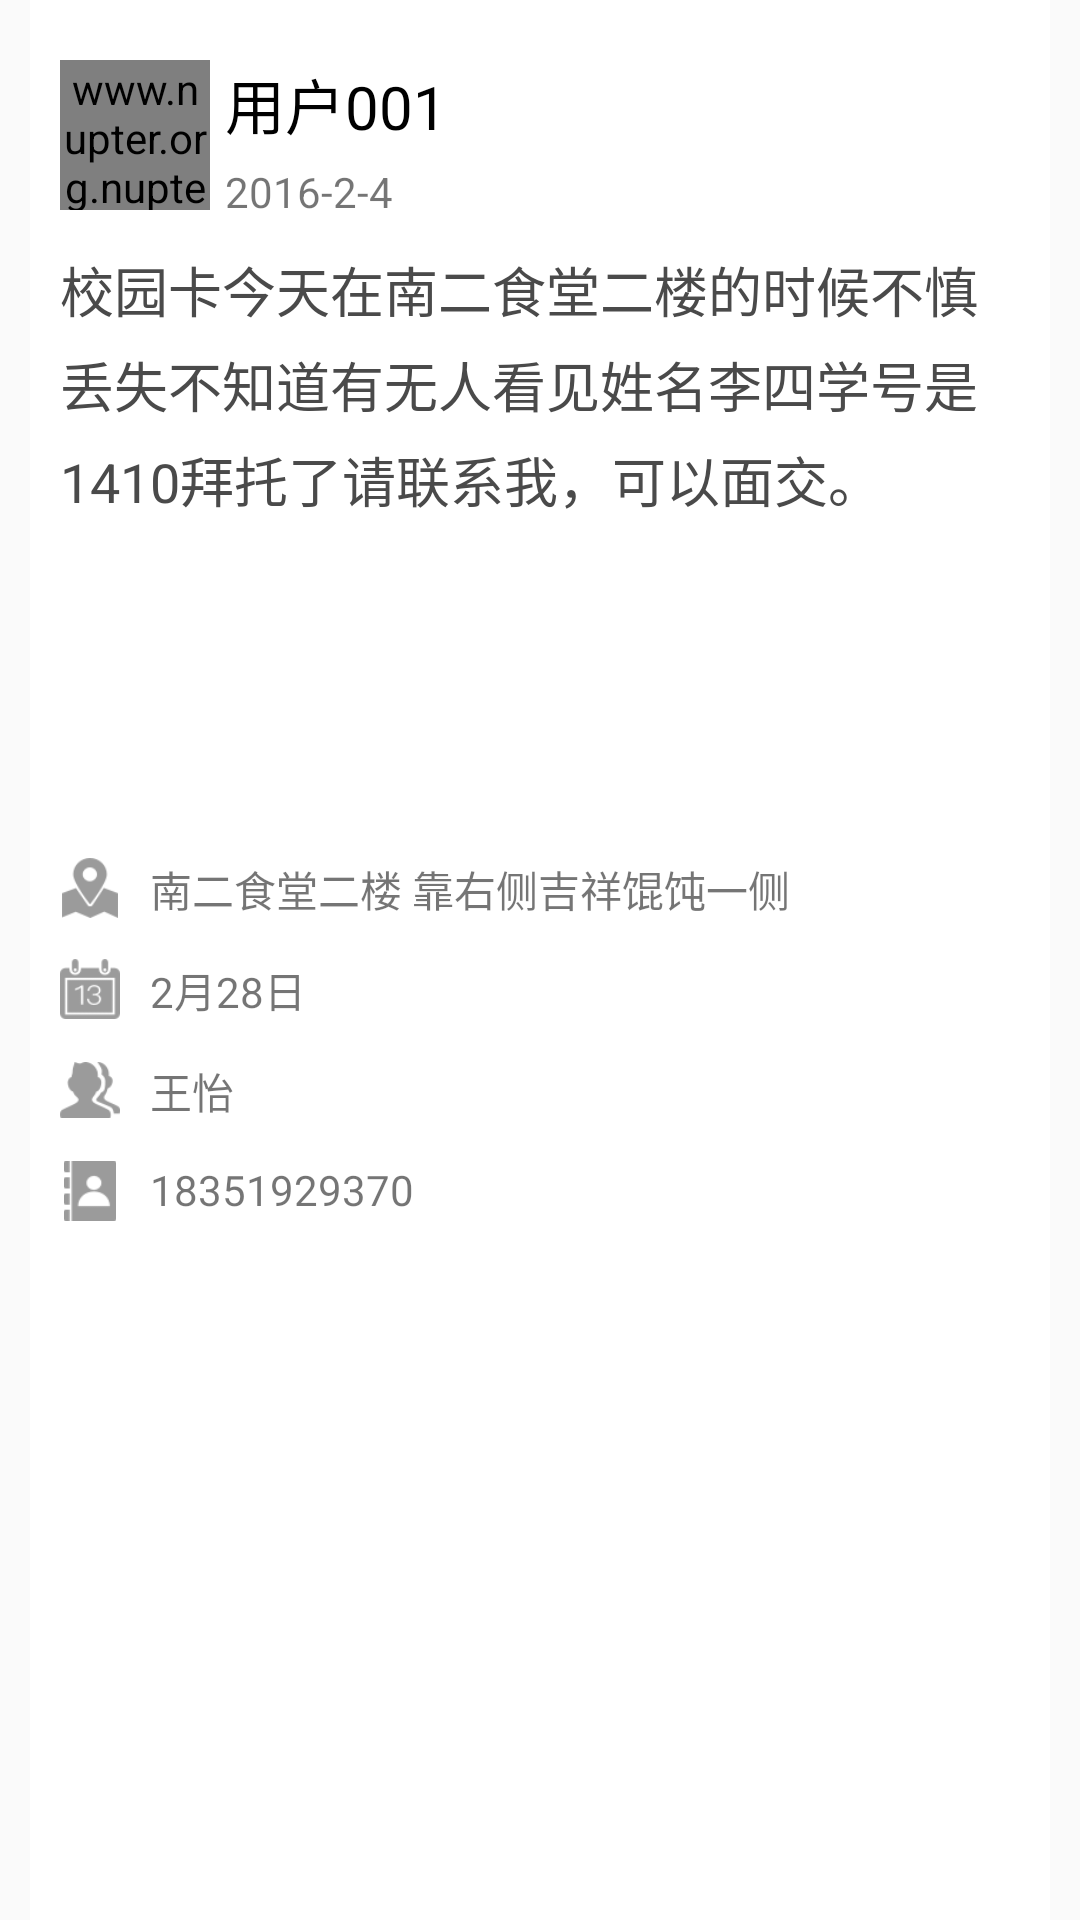

Screen size 1080px×1920px. Icon name, then its box in pixels as (x1, y1, x2, y2):
commu: (60, 1062, 120, 1118)
date: (60, 959, 120, 1019)
location: (62, 858, 118, 918)
phone: (64, 1161, 116, 1221)
